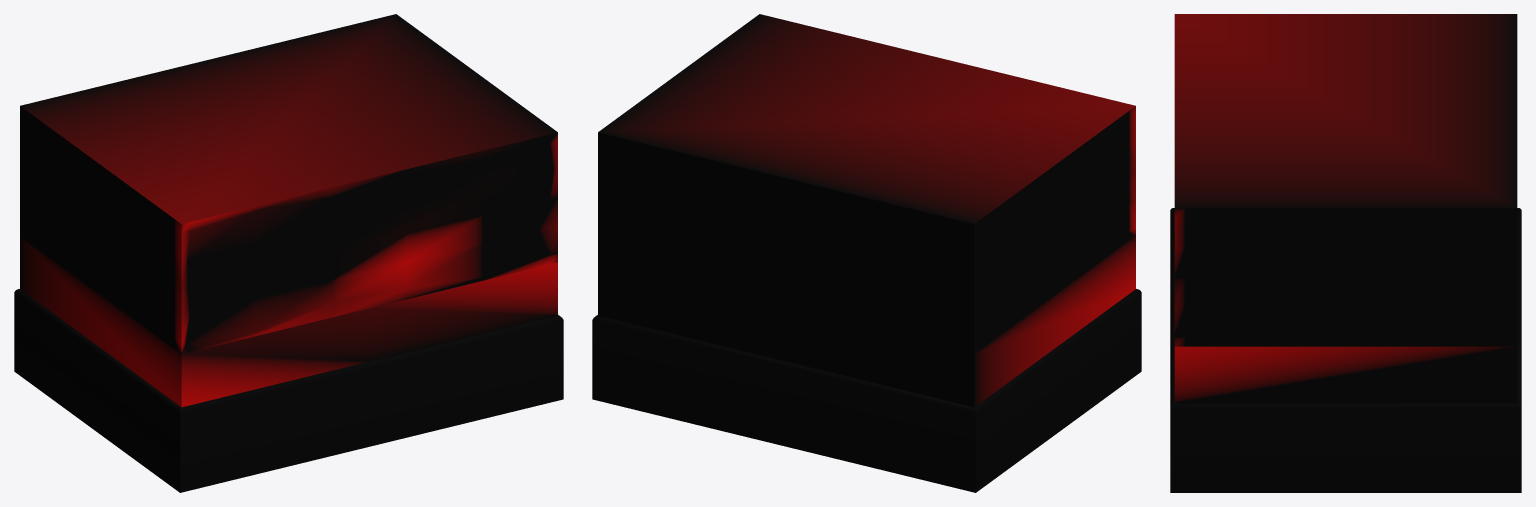
File: House5.fbx
3 renders of one model, left to right at view 1: azimuth 30°, elevation 25°; view 2: azimuth 150°, elevation 25°; view 3: azimuth 270°, elevation 25°, orthographic. The views are drawn at different scales.
Parts seen in each view (by area): view 1: House5; view 2: House5; view 3: House5.
Boxes of the visible parts, left/top/right/bottom form: House5: left=14, top=14, right=563, bottom=492; House5: left=592, top=14, right=1141, bottom=492; House5: left=1170, top=14, right=1521, bottom=492.
Size of the model in its own units: 1095 by 727 by 820.
